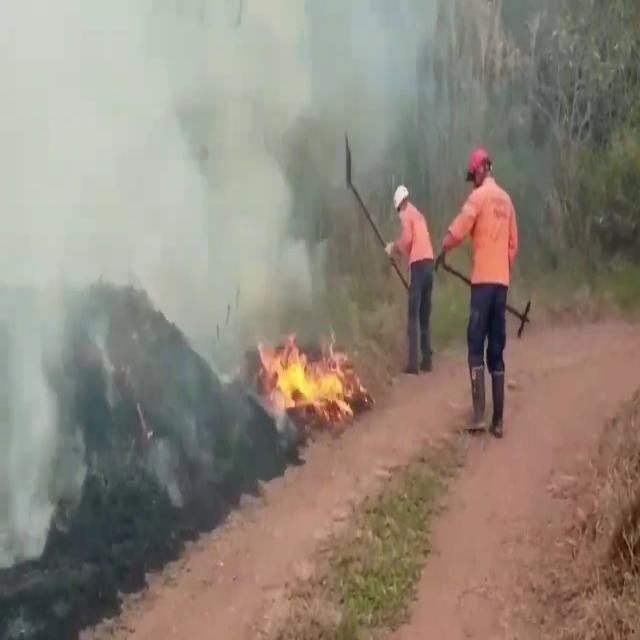Fire: (256, 320, 358, 422)
Smoke: (0, 0, 317, 445)
